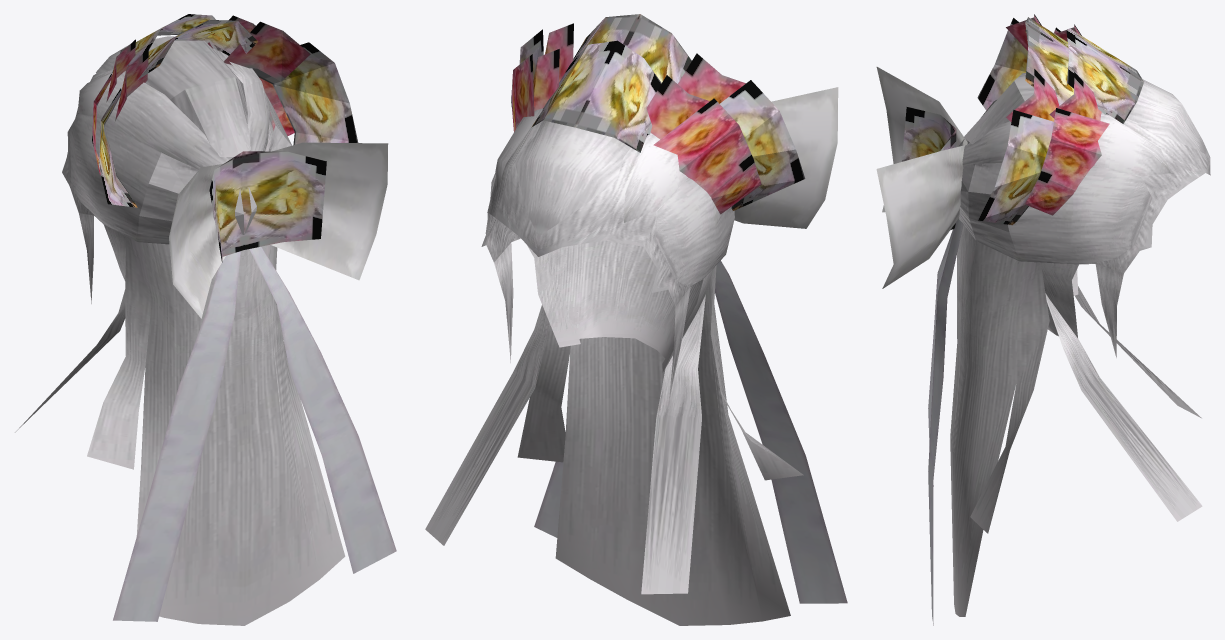
File: Wizard female hair 61.glb
The picture shows the model from 3 angles, left to right: view 1: azimuth 30°, elevation 25°; view 2: azimuth 150°, elevation 25°; view 3: azimuth 270°, elevation 25°; orthographic projection. The views are drawn at different scales.
Parts seen in each view (by area): view 1: Object32_0, Object32_2, Object32_1; view 2: Object32_0, Object32_2, Object32_1; view 3: Object32_0, Object32_2, Object32_1.
Part boxes in pixels (left/top/right/bottom): Object32_0: left=15, top=36, right=345, bottom=625; Object32_2: left=92, top=14, right=388, bottom=318; Object32_1: left=113, top=246, right=396, bottom=621; Object32_0: left=425, top=108, right=803, bottom=625; Object32_2: left=511, top=14, right=838, bottom=228; Object32_1: left=534, top=260, right=847, bottom=603; Object32_0: left=950, top=72, right=1210, bottom=616; Object32_2: left=876, top=14, right=1143, bottom=288; Object32_1: left=928, top=219, right=963, bottom=625.
Size of the model in its own units: 0.2396 by 0.4674 by 0.2433.
Materials: 3 (3 with a texture image).
